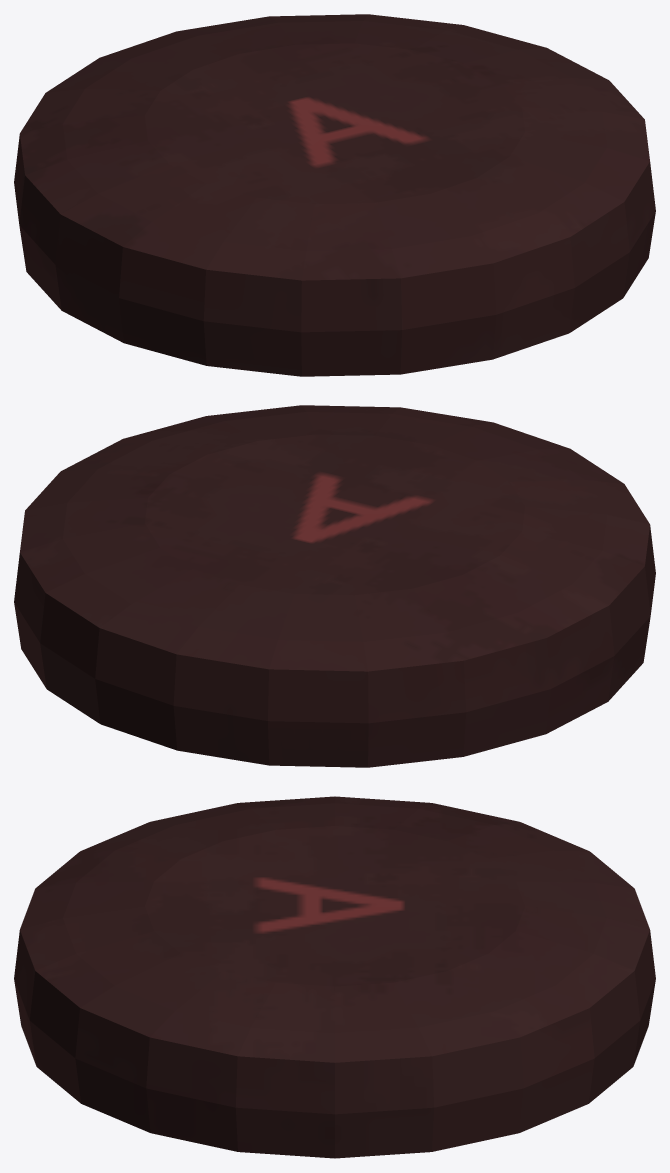
File: ButtonTex.obj
3 renders of one model, top to bottom at view 1: azimuth 30°, elevation 25°; view 2: azimuth 150°, elevation 25°; view 3: azimuth 270°, elevation 25°, orthographic.
Parts seen in each view (by area): view 1: pCylinder1; view 2: pCylinder1; view 3: pCylinder1.
Part boxes in pixels (x1,y1,x2,y2): pCylinder1: (14,14,655,376); pCylinder1: (14,405,655,767); pCylinder1: (14,796,655,1158).
Size of the model in its own units: 2.05 by 0.4209 by 2.05.
